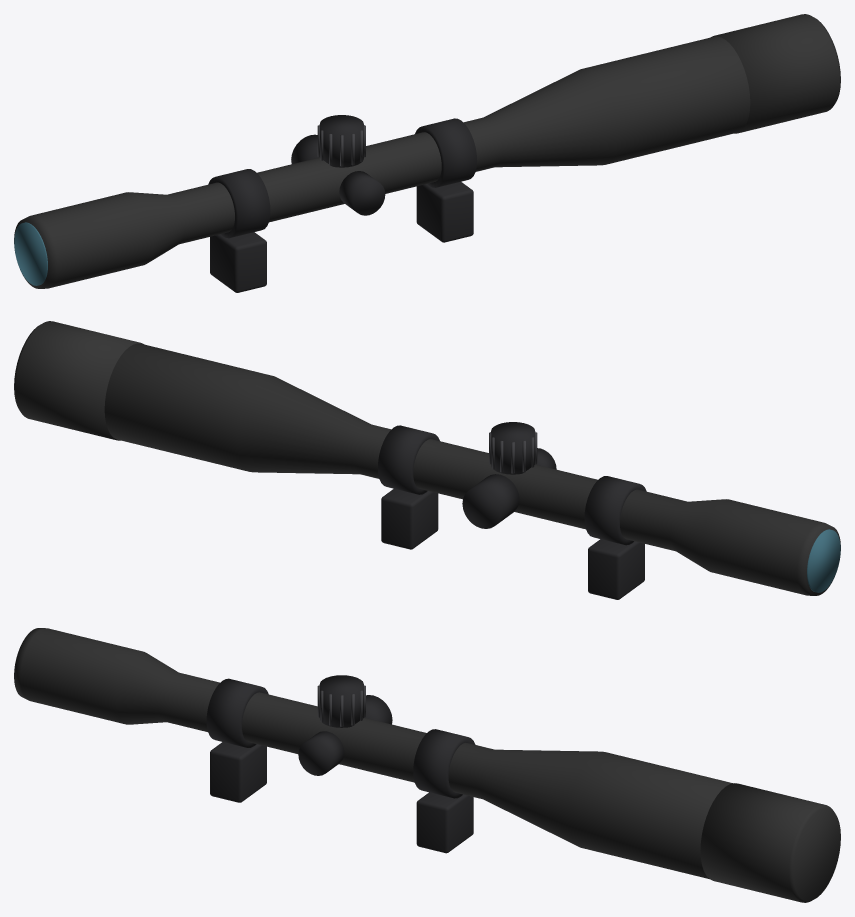
Rendered from SM_Scope8x.glb.
The picture shows the model from 3 angles, top to bottom: view 1: azimuth 30°, elevation 25°; view 2: azimuth 150°, elevation 25°; view 3: azimuth 330°, elevation 25°; orthographic projection.
Parts seen in each view (by area): view 1: SM_Scope8x; view 2: SM_Scope8x; view 3: SM_Scope8x.
Boxes of the visible parts, left/top/right/bottom form: SM_Scope8x: left=14, top=14, right=840, bottom=292; SM_Scope8x: left=14, top=321, right=840, bottom=599; SM_Scope8x: left=14, top=628, right=840, bottom=902.
Bounding box in the file's own units: 0.533 × 0.085 × 0.069.
